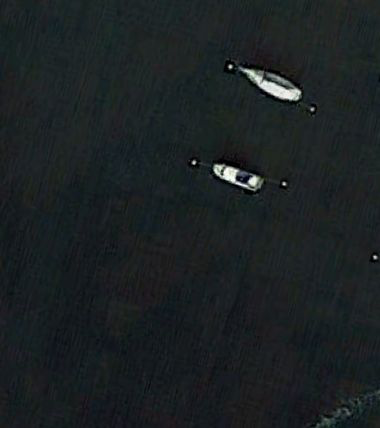boat: (235, 63, 303, 104), (211, 162, 265, 193)
